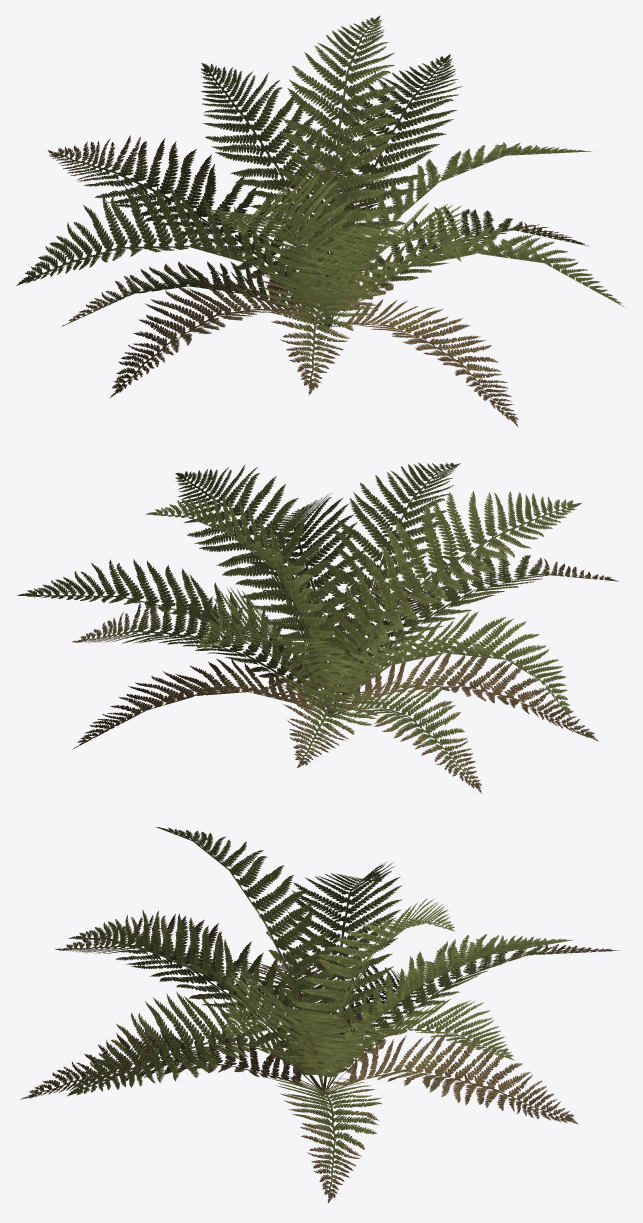
The model's file is Grass.fbx.
3 views of the same model, one above another, from view 1: azimuth 30°, elevation 25°; view 2: azimuth 150°, elevation 25°; view 3: azimuth 270°, elevation 25° (orthographic). The views are drawn at different scales.
Parts seen in each view (by area): view 1: pal_b00_grass_snow_Fern_01.mo; view 2: pal_b00_grass_snow_Fern_01.mo; view 3: pal_b00_grass_snow_Fern_01.mo.
Part boxes in pixels (x1,y1,x2,y2): pal_b00_grass_snow_Fern_01.mo: [16, 15, 625, 427]; pal_b00_grass_snow_Fern_01.mo: [17, 462, 618, 793]; pal_b00_grass_snow_Fern_01.mo: [20, 826, 621, 1202].
Size of the model in its own units: 252 by 104 by 256.
